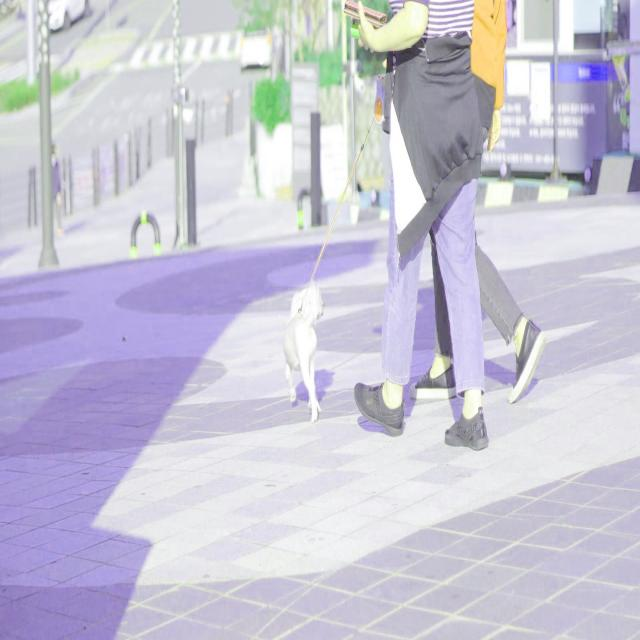Leashed_Dog: (282, 61, 421, 426)
